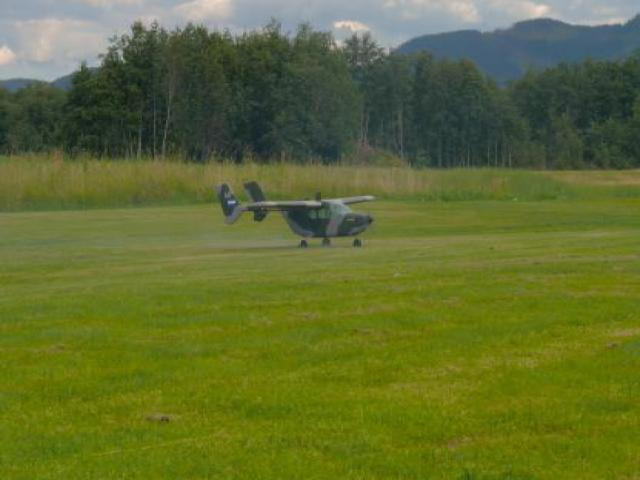uav: (216, 174, 378, 248)
